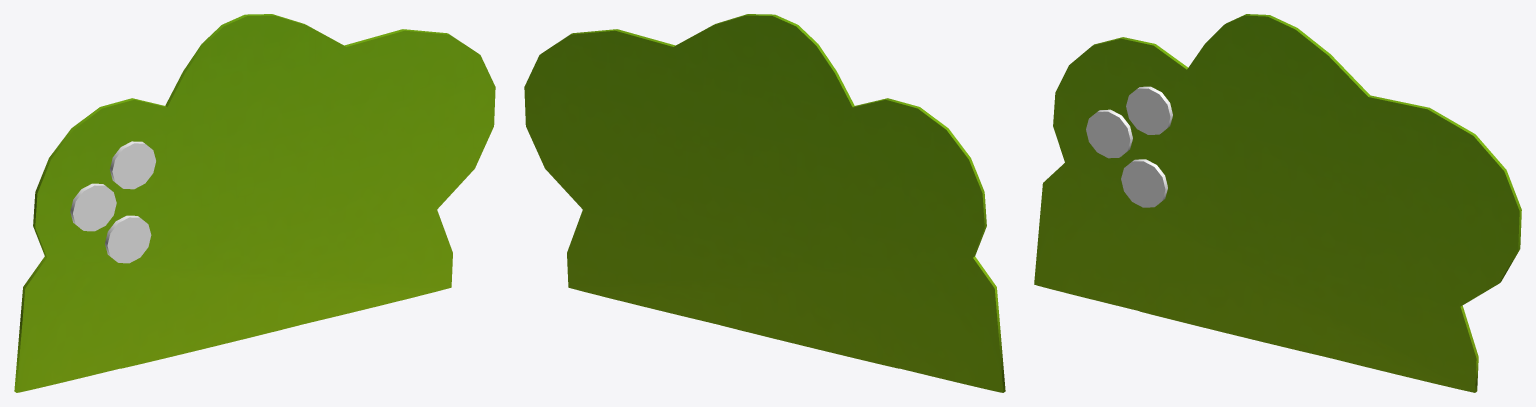
The model's file is obj-shrub-2.FBX.
3 renders of one model, left to right at view 1: azimuth 30°, elevation 25°; view 2: azimuth 150°, elevation 25°; view 3: azimuth 330°, elevation 25°, orthographic.
Visible parts, largest first — view 1: obj-shrub2; view 2: obj-shrub2; view 3: obj-shrub2.
Boxes of the visible parts, x1,y1,x2,y2 form: obj-shrub2: [14, 14, 495, 392]; obj-shrub2: [524, 14, 1005, 392]; obj-shrub2: [1034, 14, 1521, 392].
Bounding box in the file's own units: 5.63 × 3.62 × 0.0964.
